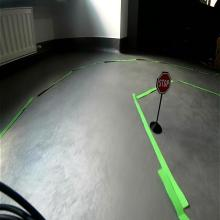stop: (156, 71, 172, 94)
